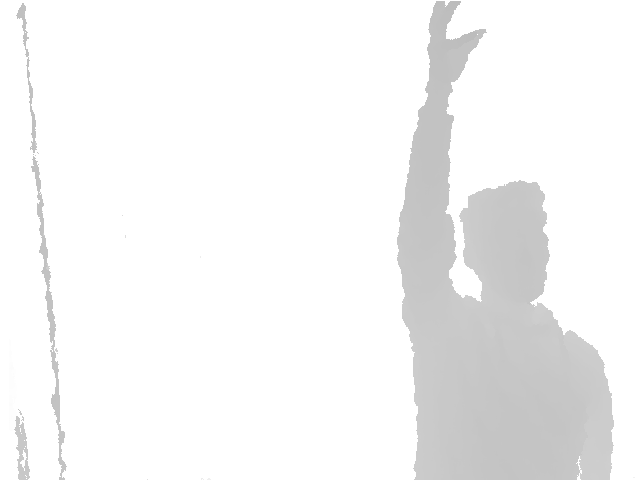hand: (427, 1, 487, 97)
head: (459, 180, 550, 302)
person: (397, 1, 615, 480)
